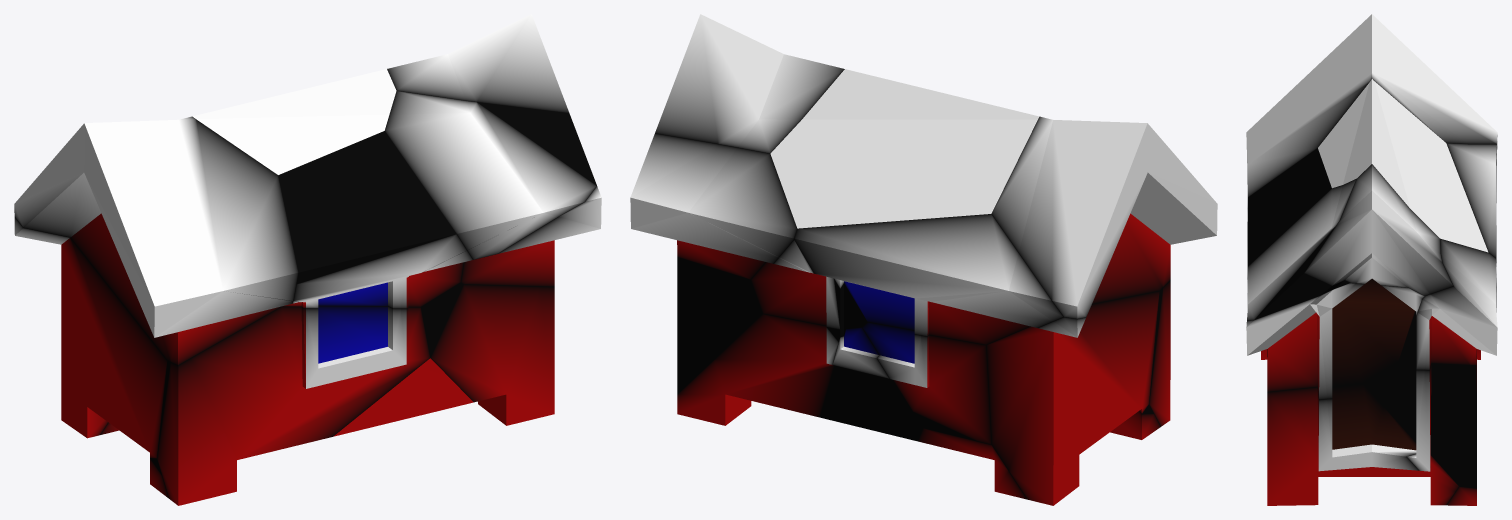
File: Farm_Stabbur_2_D.fbx
3 renders of one model, left to right at view 1: azimuth 30°, elevation 25°; view 2: azimuth 150°, elevation 25°; view 3: azimuth 270°, elevation 25°, orthographic. The views are drawn at different scales.
Visible parts, largest first — view 1: Farm_Stabbur_2_fracturepart13, Farm_Stabbur_2_fracturepart19, Farm_Stabbur_2_fracturepart14, Farm_Stabbur_2_fracturepart16, Farm_Stabbur_2_fracturepart1, Farm_Stabbur_2_fracturepart15, Farm_Stabbur_2_fracturepart2, Farm_Stabbur_2_fracturepart8, Farm_Stabbur_2_fracturepart12, Farm_Stabbur_2_fracturepart3; view 2: Farm_Stabbur_2_fracturepart13, Farm_Stabbur_2_fracturepart2, Farm_Stabbur_2_fracturepart1, Farm_Stabbur_2_fracturepart6, Farm_Stabbur_2_fracturepart11, Farm_Stabbur_2_fracturepart8, Farm_Stabbur_2_fracturepart4, Farm_Stabbur_2_fracturepart5, Farm_Stabbur_2_fracturepart7, Farm_Stabbur_2_fracturepart10, Farm_Stabbur_2_fracturepart18, Farm_Stabbur_2_fracturepart17 (+1 smaller); view 3: Farm_Stabbur_2_fracturepart13, Farm_Stabbur_2_fracturepart15, Farm_Stabbur_2_fracturepart12, Farm_Stabbur_2_fracturepart2, Farm_Stabbur_2_fracturepart8, Farm_Stabbur_2_fracturepart7, Farm_Stabbur_2_fracturepart11, Farm_Stabbur_2_fracturepart16, Farm_Stabbur_2_fracturepart14, Farm_Stabbur_2_fracturepart6, Farm_Stabbur_2_fracturepart4.
Part boxes in pixels (box(x1,y1,x2,y2)): Farm_Stabbur_2_fracturepart13: box(14, 116, 298, 365); Farm_Stabbur_2_fracturepart19: box(157, 306, 430, 505); Farm_Stabbur_2_fracturepart14: box(278, 131, 472, 308); Farm_Stabbur_2_fracturepart16: box(384, 91, 596, 259); Farm_Stabbur_2_fracturepart1: box(14, 217, 167, 458); Farm_Stabbur_2_fracturepart15: box(425, 284, 554, 425); Farm_Stabbur_2_fracturepart2: box(192, 69, 396, 174); Farm_Stabbur_2_fracturepart8: box(387, 14, 569, 113); Farm_Stabbur_2_fracturepart12: box(461, 186, 601, 286); Farm_Stabbur_2_fracturepart3: box(333, 358, 473, 436); Farm_Stabbur_2_fracturepart13: box(991, 116, 1217, 318); Farm_Stabbur_2_fracturepart2: box(770, 69, 1039, 228); Farm_Stabbur_2_fracturepart1: box(986, 291, 1159, 505); Farm_Stabbur_2_fracturepart6: box(794, 214, 1063, 344); Farm_Stabbur_2_fracturepart11: box(630, 133, 797, 279); Farm_Stabbur_2_fracturepart8: box(655, 14, 844, 153); Farm_Stabbur_2_fracturepart4: box(677, 314, 845, 425); Farm_Stabbur_2_fracturepart5: box(862, 322, 991, 444); Farm_Stabbur_2_fracturepart7: box(677, 257, 762, 393); Farm_Stabbur_2_fracturepart10: box(820, 327, 922, 441); Farm_Stabbur_2_fracturepart18: box(751, 240, 867, 329); Farm_Stabbur_2_fracturepart17: box(918, 404, 1160, 499); Farm_Stabbur_2_fracturepart13: box(1246, 14, 1497, 207); Farm_Stabbur_2_fracturepart15: box(1267, 349, 1459, 505); Farm_Stabbur_2_fracturepart12: box(1246, 278, 1424, 399); Farm_Stabbur_2_fracturepart2: box(1318, 79, 1488, 252); Farm_Stabbur_2_fracturepart8: box(1304, 164, 1453, 295); Farm_Stabbur_2_fracturepart7: box(1363, 362, 1476, 488); Farm_Stabbur_2_fracturepart11: box(1398, 238, 1497, 370); Farm_Stabbur_2_fracturepart16: box(1247, 178, 1356, 320); Farm_Stabbur_2_fracturepart14: box(1247, 148, 1331, 280); Farm_Stabbur_2_fracturepart6: box(1446, 143, 1496, 266); Farm_Stabbur_2_fracturepart4: box(1447, 349, 1480, 505).
Size of the model in its own units: 486 by 362 by 264.
